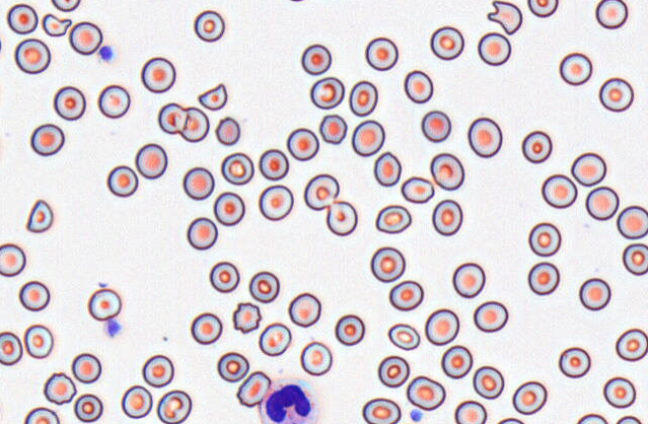PLT: (104, 318, 123, 339), (99, 45, 116, 62), (409, 409, 424, 422)
RBC: (467, 117, 502, 157), (406, 375, 445, 410), (303, 173, 339, 210), (140, 56, 176, 93), (14, 38, 50, 74), (424, 308, 459, 345), (430, 152, 464, 190), (258, 184, 293, 220), (541, 173, 577, 208), (370, 246, 405, 282), (598, 77, 634, 112), (236, 370, 270, 407), (351, 119, 385, 156), (512, 380, 547, 415), (429, 25, 464, 60), (156, 389, 192, 423), (570, 152, 606, 186), (585, 185, 619, 220), (452, 262, 485, 298), (87, 287, 121, 321), (68, 21, 102, 55), (477, 31, 511, 65), (288, 292, 321, 327), (30, 123, 65, 156), (309, 76, 344, 109), (53, 85, 86, 120), (365, 36, 398, 71), (135, 143, 167, 179), (325, 200, 357, 236), (431, 199, 463, 235), (220, 152, 254, 185), (258, 322, 291, 356), (528, 222, 561, 256), (286, 127, 319, 161), (97, 84, 130, 118), (300, 341, 332, 376), (473, 300, 508, 332), (178, 106, 209, 142), (615, 328, 648, 361), (559, 52, 592, 85), (182, 166, 214, 200), (527, 261, 559, 295), (472, 365, 504, 399), (186, 216, 218, 250), (616, 205, 648, 239), (213, 191, 245, 225), (388, 280, 423, 311), (43, 372, 76, 404), (440, 345, 472, 378), (603, 376, 636, 408), (142, 354, 174, 387), (579, 277, 611, 310), (193, 9, 225, 42), (121, 384, 152, 418), (375, 204, 411, 233), (348, 80, 377, 116), (361, 397, 401, 423), (106, 165, 138, 197), (377, 355, 409, 387), (558, 346, 590, 378), (190, 312, 222, 344), (216, 351, 249, 382), (521, 130, 552, 163), (248, 270, 279, 303), (420, 109, 451, 142), (23, 324, 53, 358), (403, 69, 433, 103), (6, 3, 38, 34), (18, 280, 50, 311), (258, 148, 289, 180), (334, 313, 365, 345), (300, 43, 331, 75), (373, 151, 401, 186), (209, 261, 239, 293), (595, 0, 628, 29), (71, 352, 101, 383), (157, 102, 186, 134), (232, 301, 261, 333), (387, 322, 420, 350), (400, 176, 434, 203), (0, 242, 26, 277), (73, 393, 103, 422), (622, 242, 648, 275), (319, 114, 347, 144), (454, 400, 487, 423), (0, 331, 22, 365), (215, 116, 240, 145), (23, 406, 60, 423), (527, 0, 558, 17), (50, 0, 80, 12), (576, 413, 608, 424), (615, 415, 642, 424), (496, 417, 525, 423), (283, 0, 310, 2)
Schistocyte: (486, 0, 524, 36), (25, 199, 55, 233), (197, 82, 227, 111), (42, 13, 71, 37)
